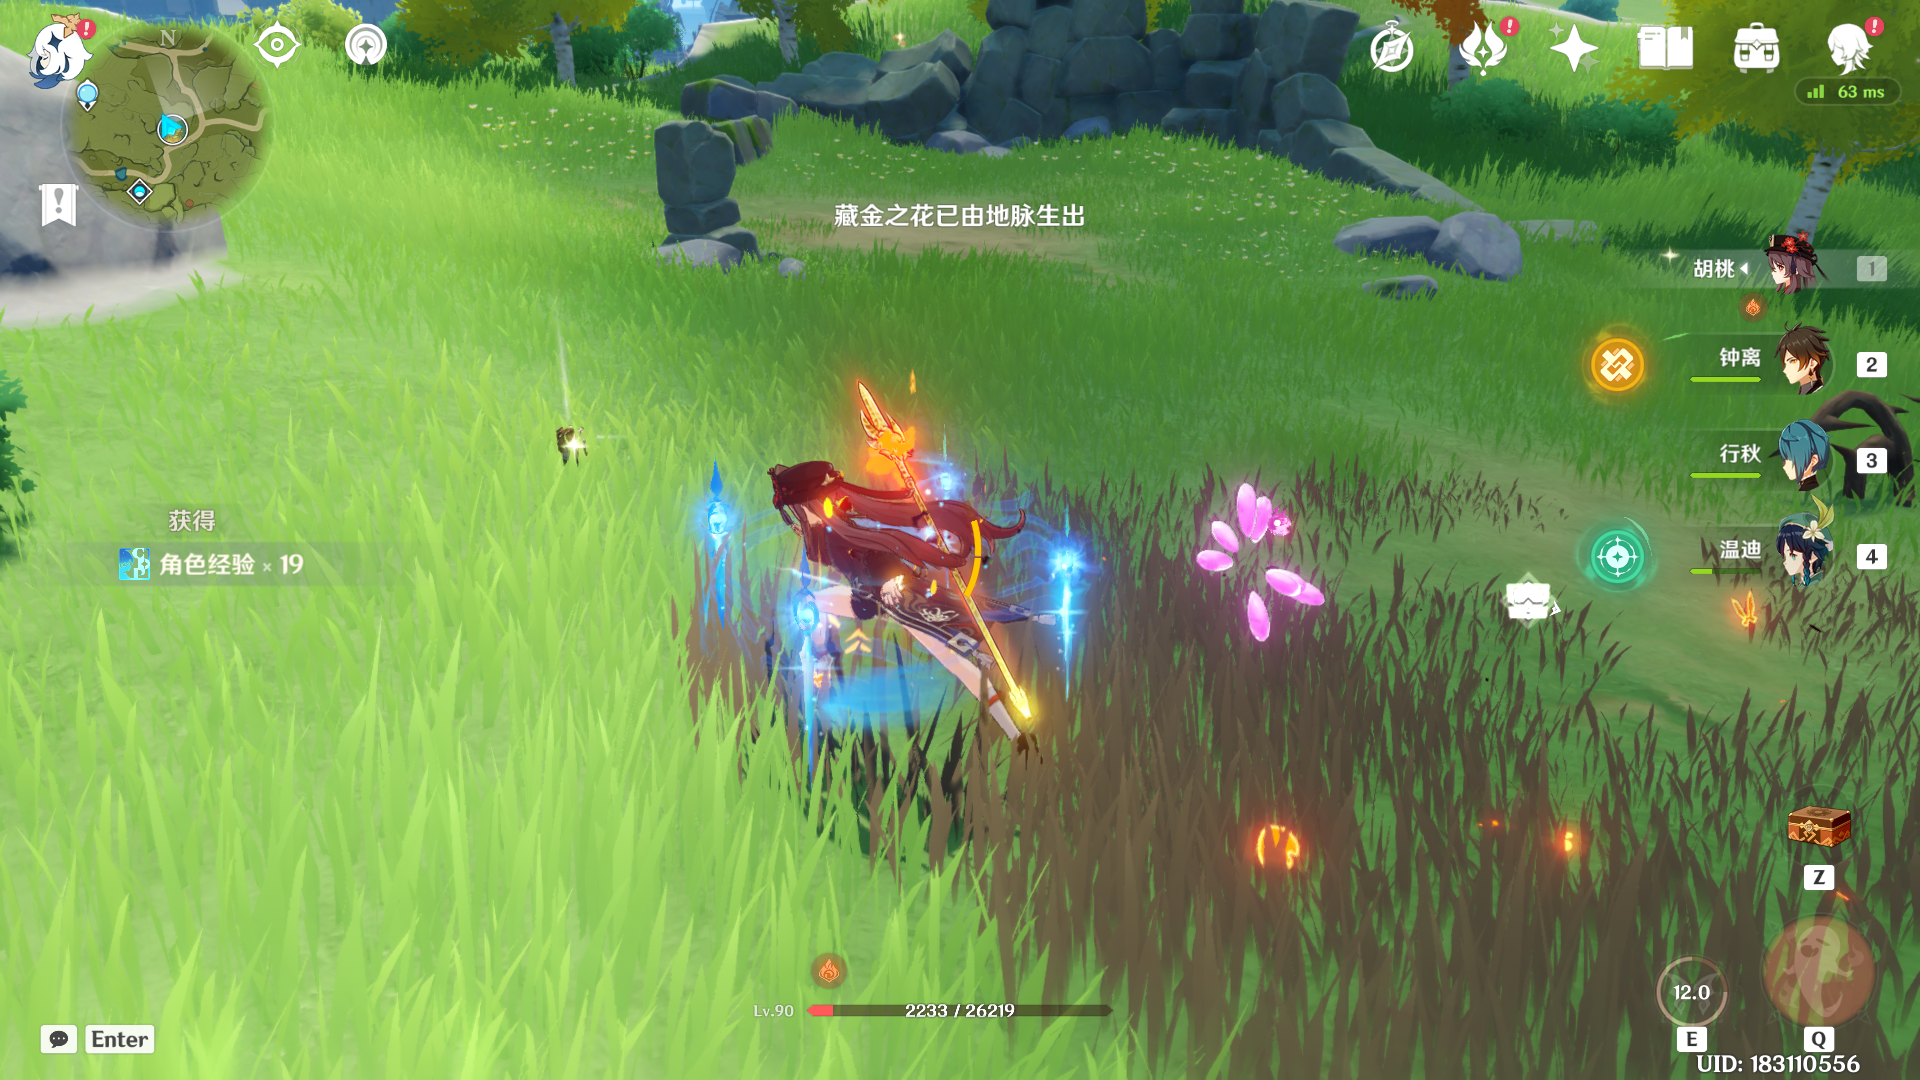character: (727, 410, 1038, 775)
